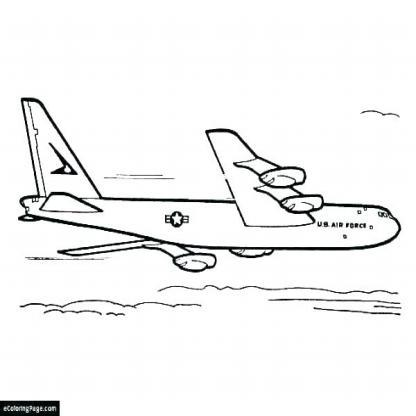CIV_Plane: (13, 92, 402, 286)
